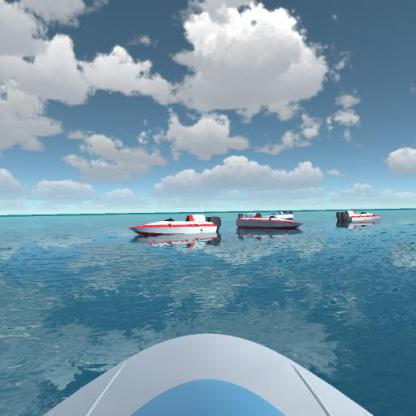usv1: (265, 207, 296, 221)
usv3: (128, 209, 224, 250), (233, 209, 306, 238), (331, 207, 385, 227)
